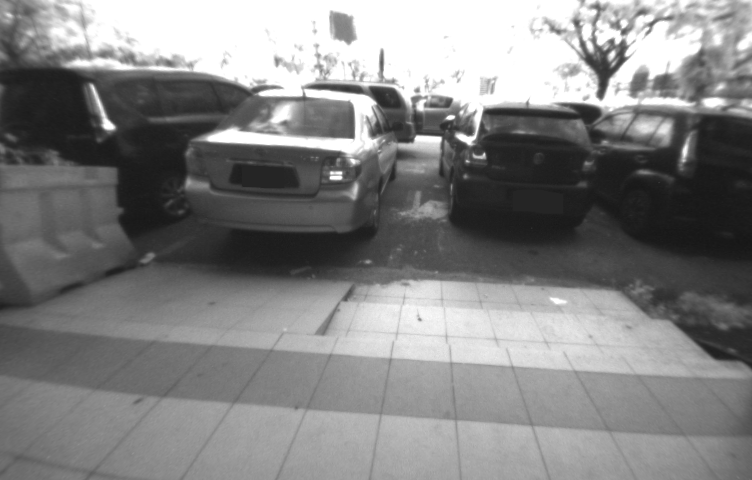down_steps: (310, 274, 748, 380)
mixed_gradient: (282, 266, 369, 360)
